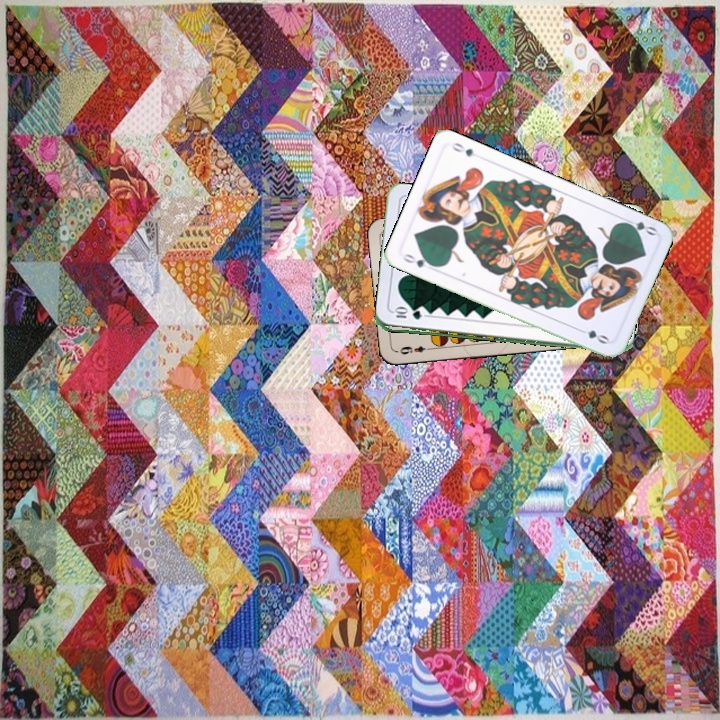E9: (396, 342, 435, 357)
G10: (390, 307, 425, 322)
GO: (619, 214, 659, 238), (398, 250, 438, 270)
